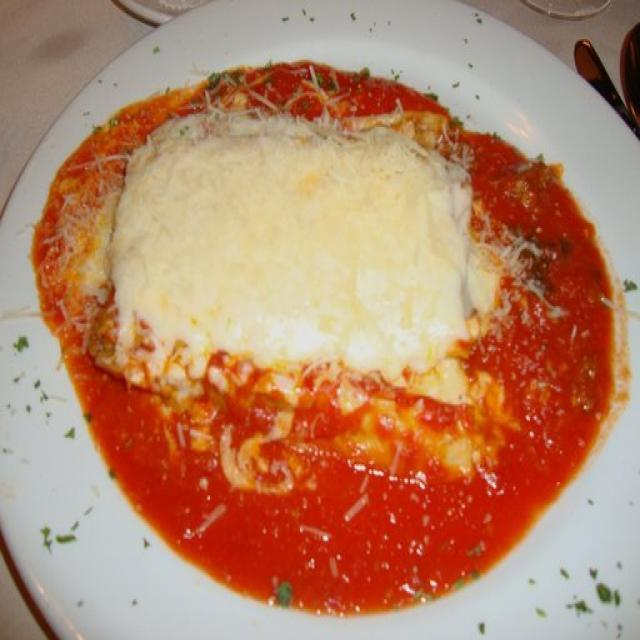Lasagna: (64, 62, 593, 518)
